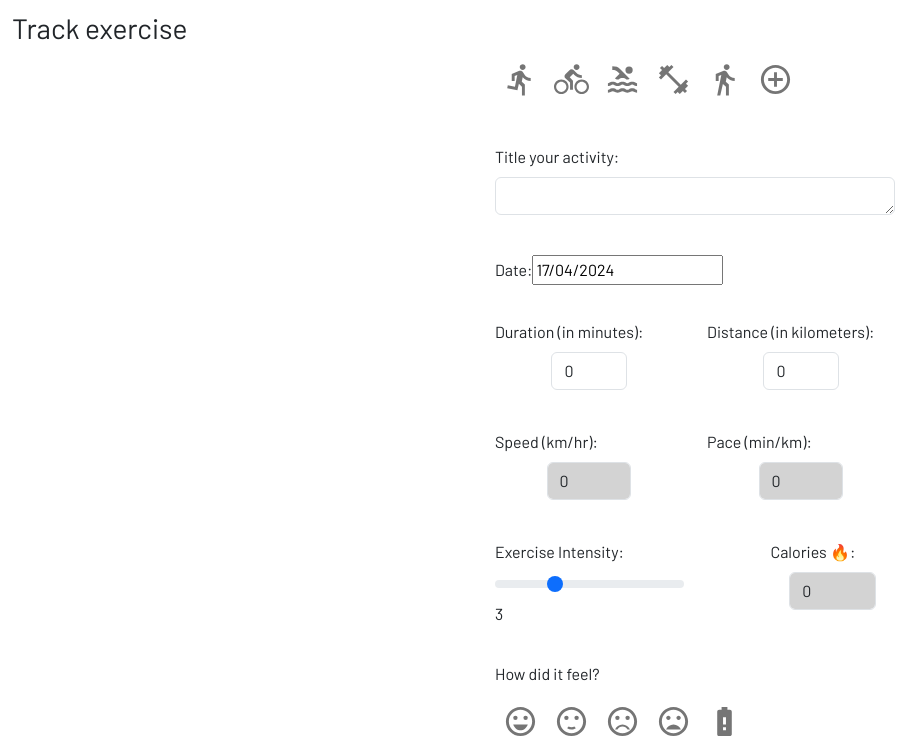
Scenario: TrackExercise Component › dropdown list appears when selecting other exercise icon
Click the button with test id "other icon": [776, 79] box [750,54,801,105]
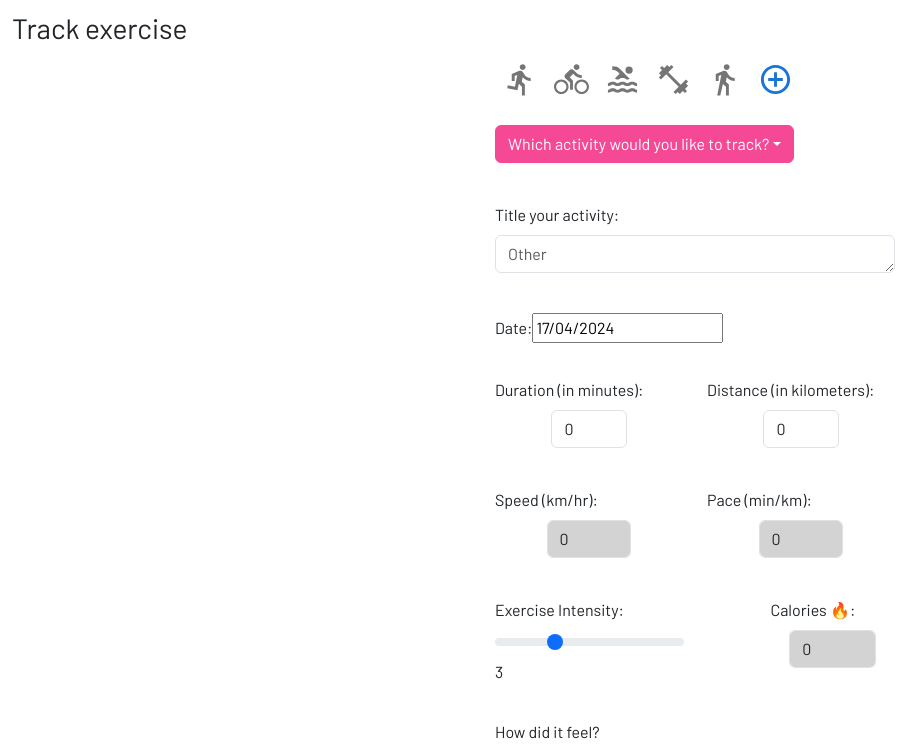
Expected: the element with test id "other dropdown" is shown, [495,125,794,163]
